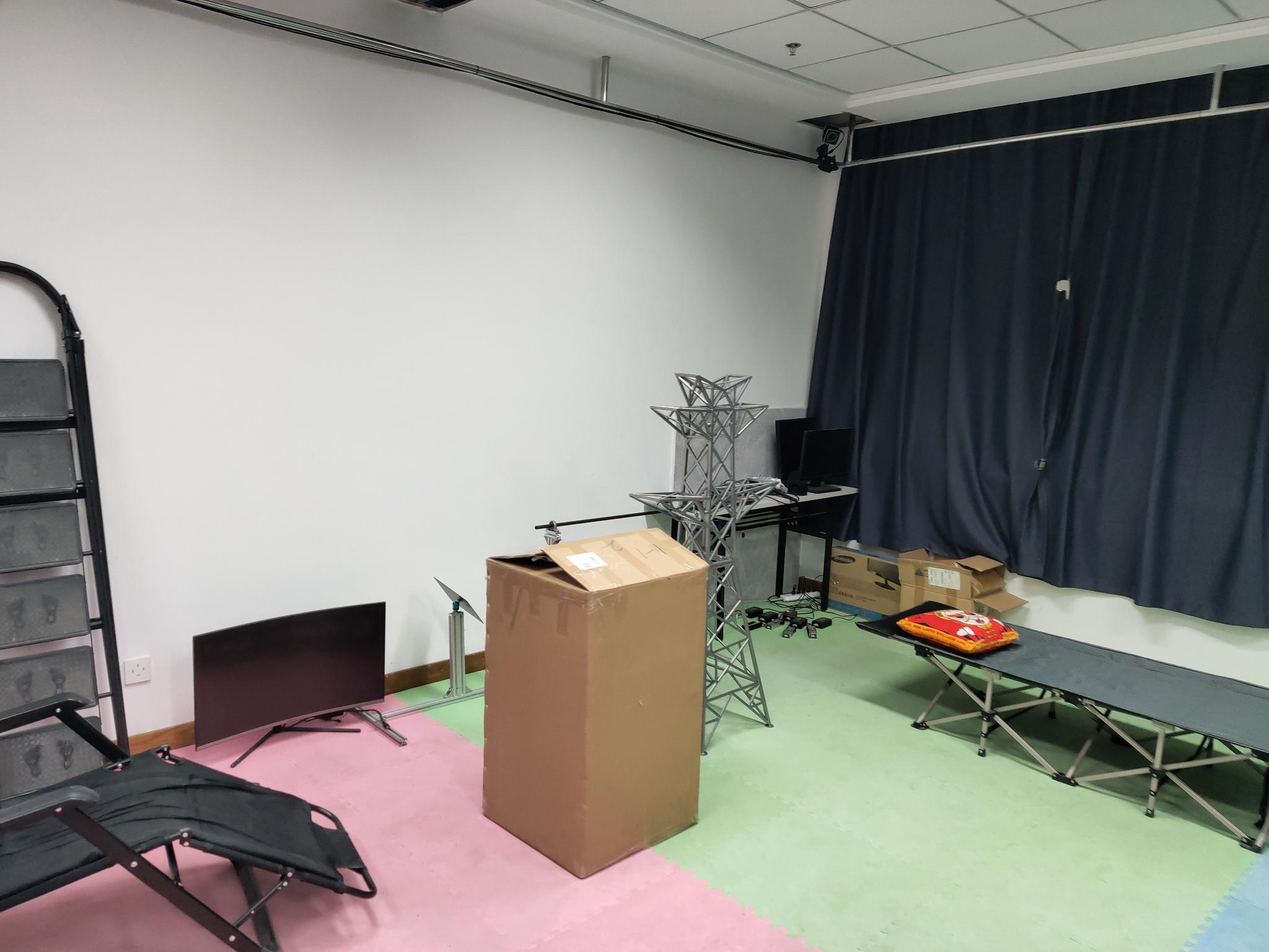tower: (627, 370, 777, 731)
